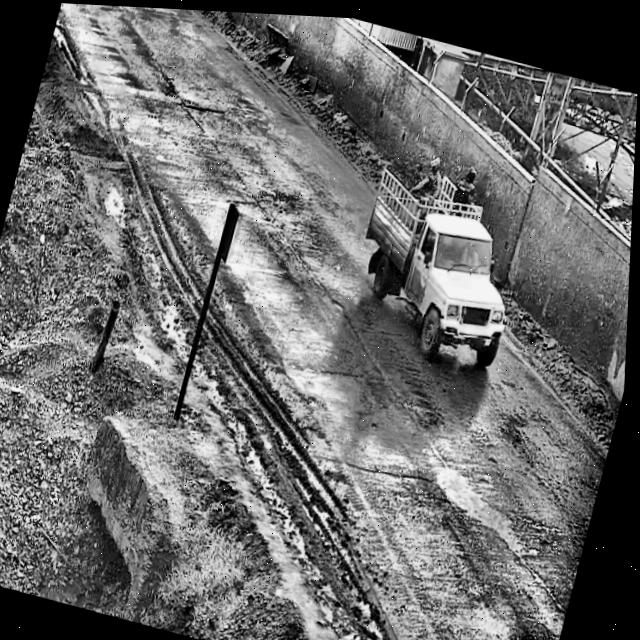light_vehicle: (327, 115, 547, 377)
